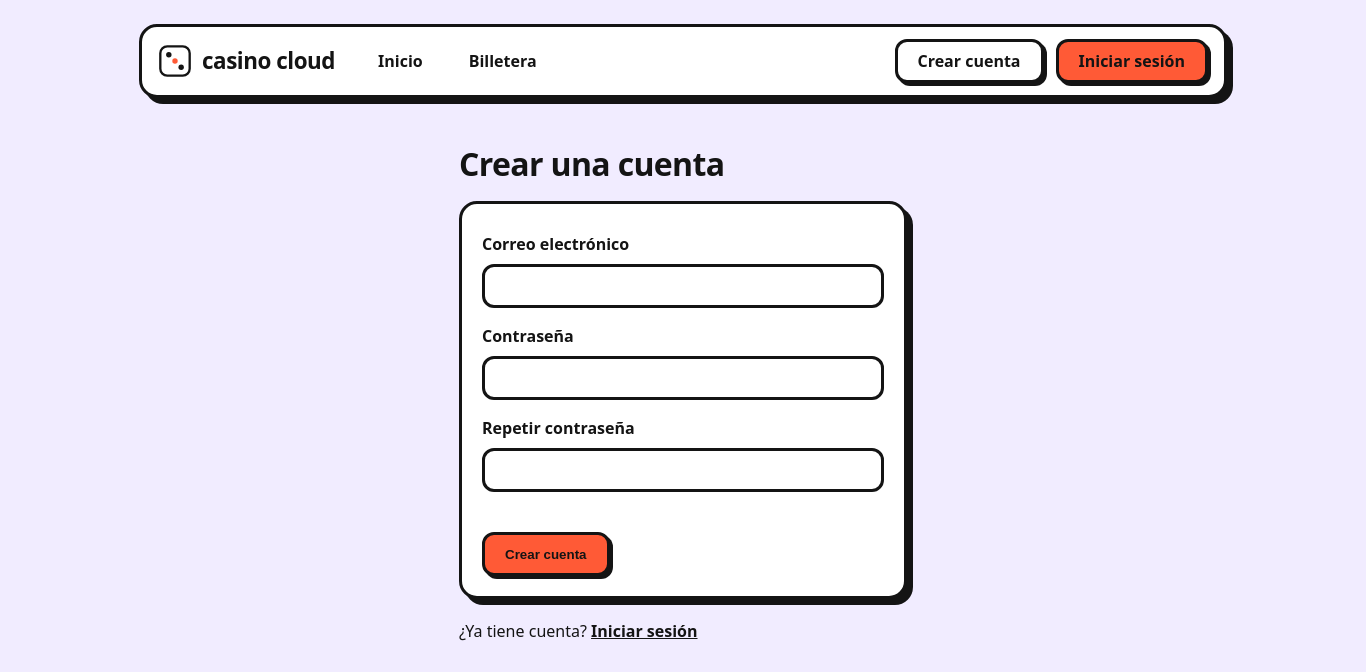
Scenario: RegisterPage › registers, keeps the session and goes to the lobby
Type "nuevo@casino.test" into the field labelled "Correo electrónico".
click(683, 286); type("nuevo@casino.test")  # box [482, 264, 884, 308]
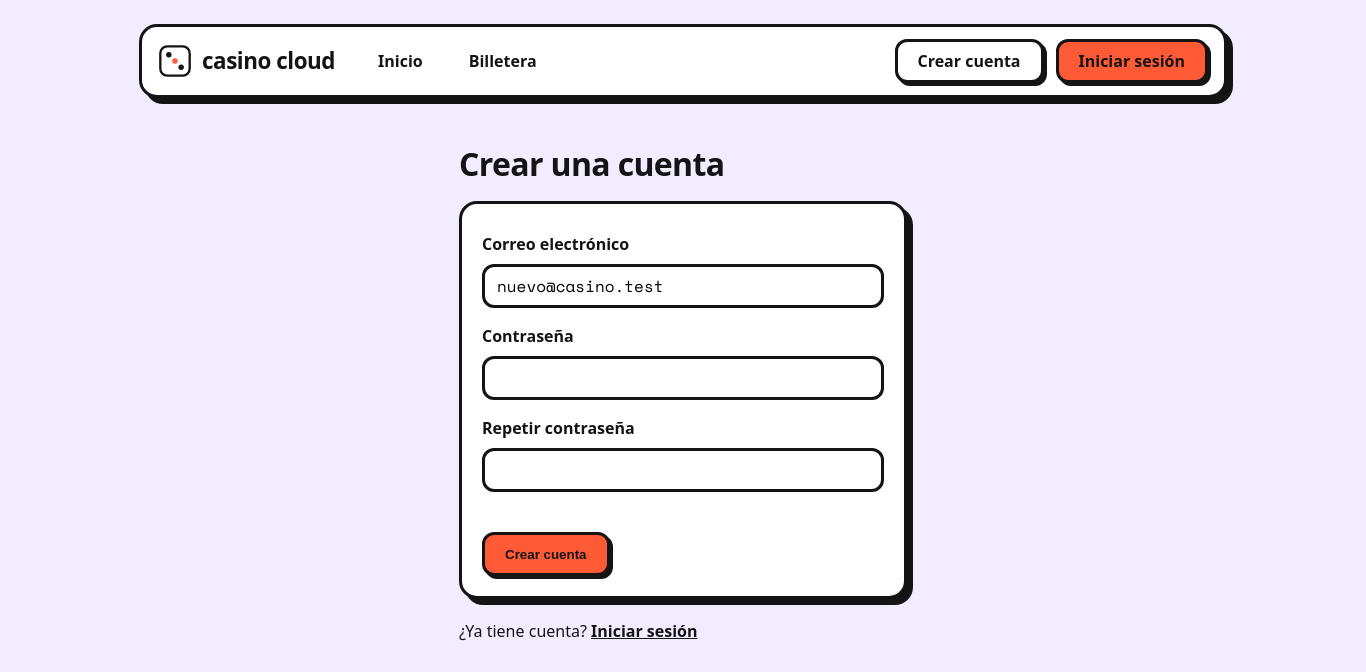
Type "password123" into the password field labelled "Contraseña".
click(683, 378); type("password123")  # box [482, 356, 884, 400]
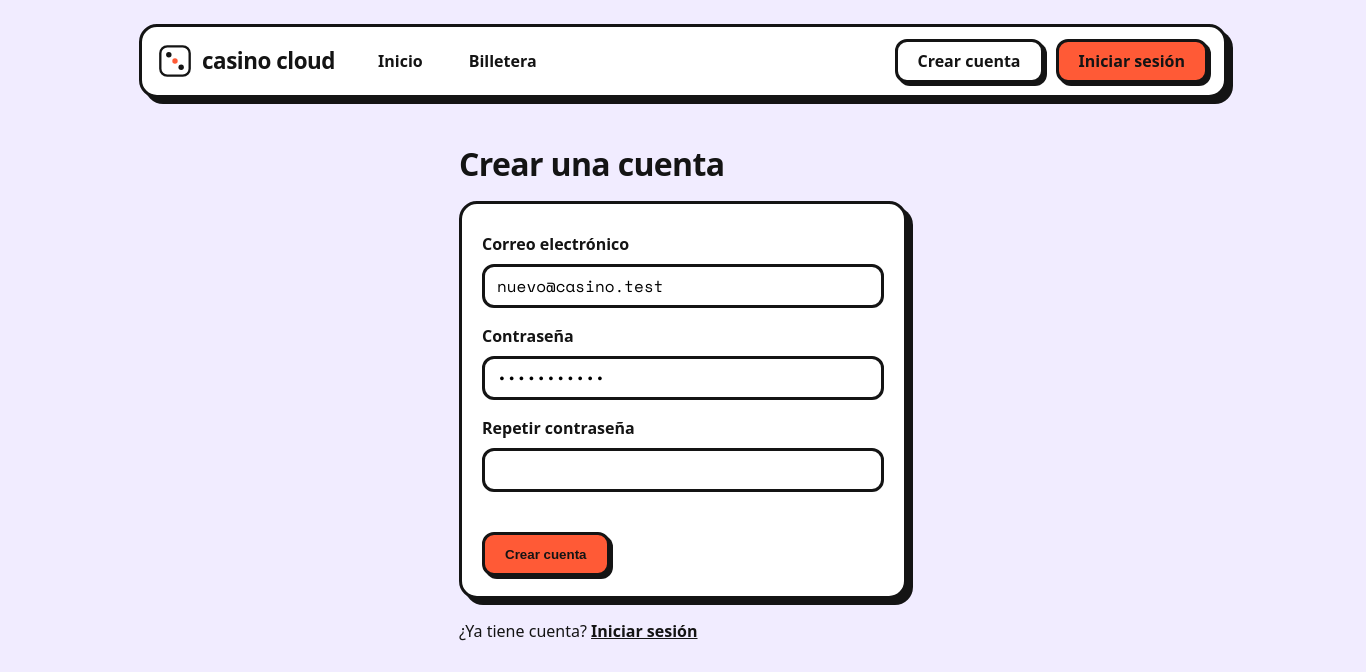
Type "password123" into the password field labelled "Repetir contraseña".
click(683, 470); type("password123")  # box [482, 448, 884, 492]
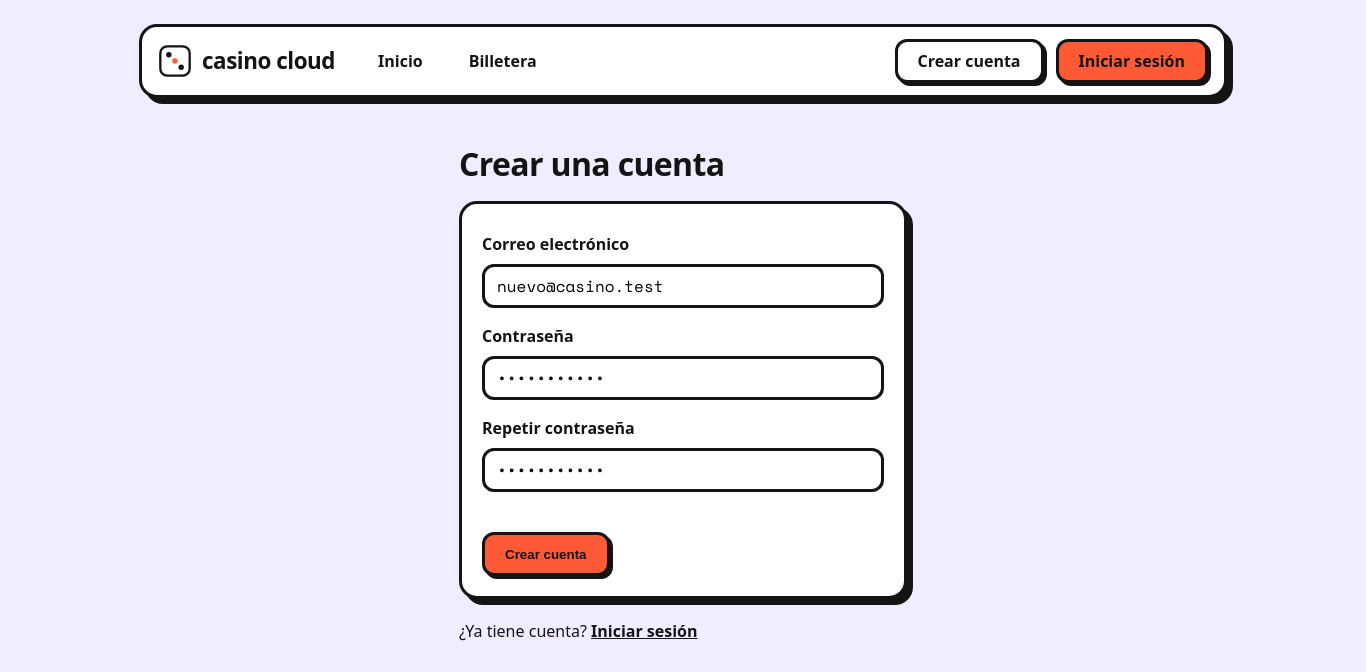
Click the button "Crear cuenta".
click(546, 554)  # box [482, 532, 610, 576]
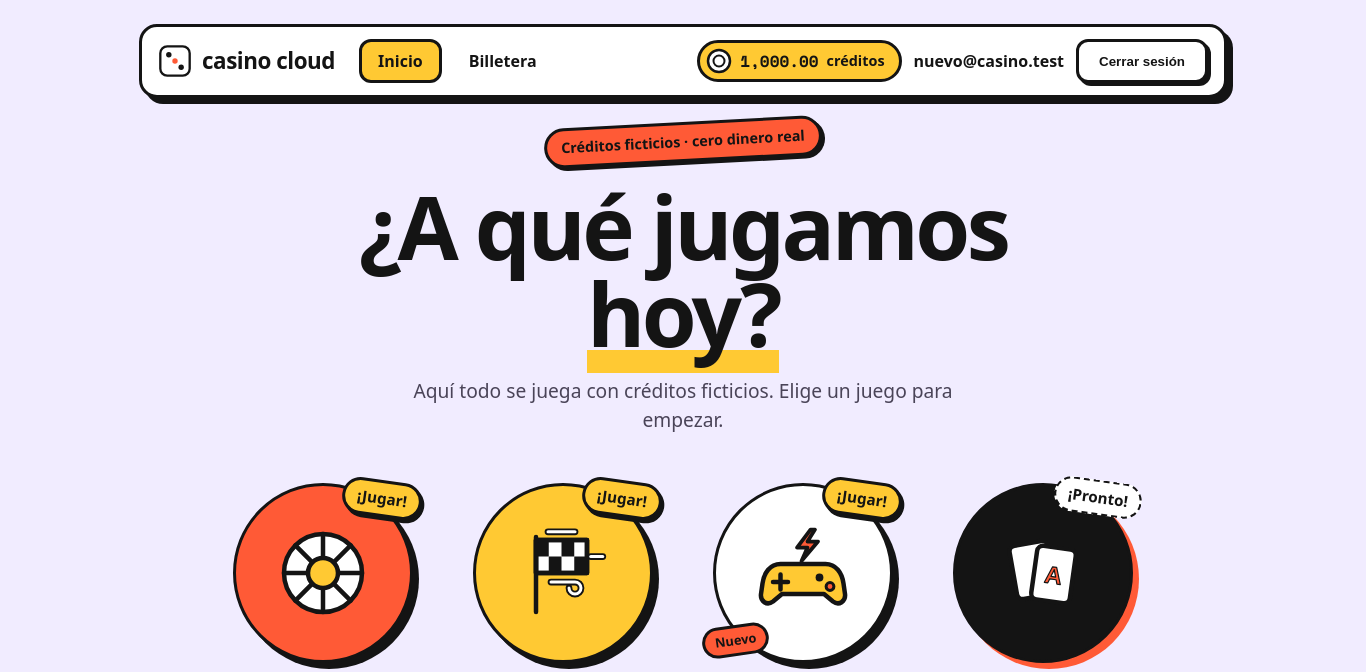
Check: the button "Cerrar sesión" is shown, box [1076, 39, 1208, 83]
Check: the text "nuevo@casino.test" is shown, box [914, 49, 1064, 73]
